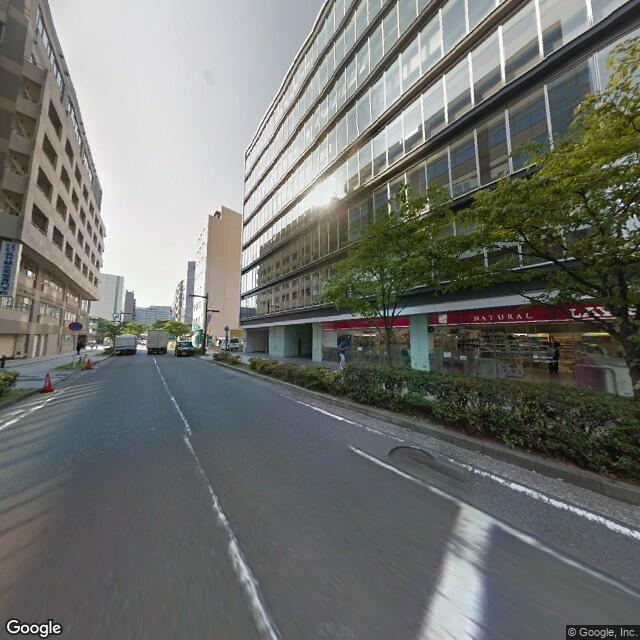lawson: (322, 293, 637, 336)
